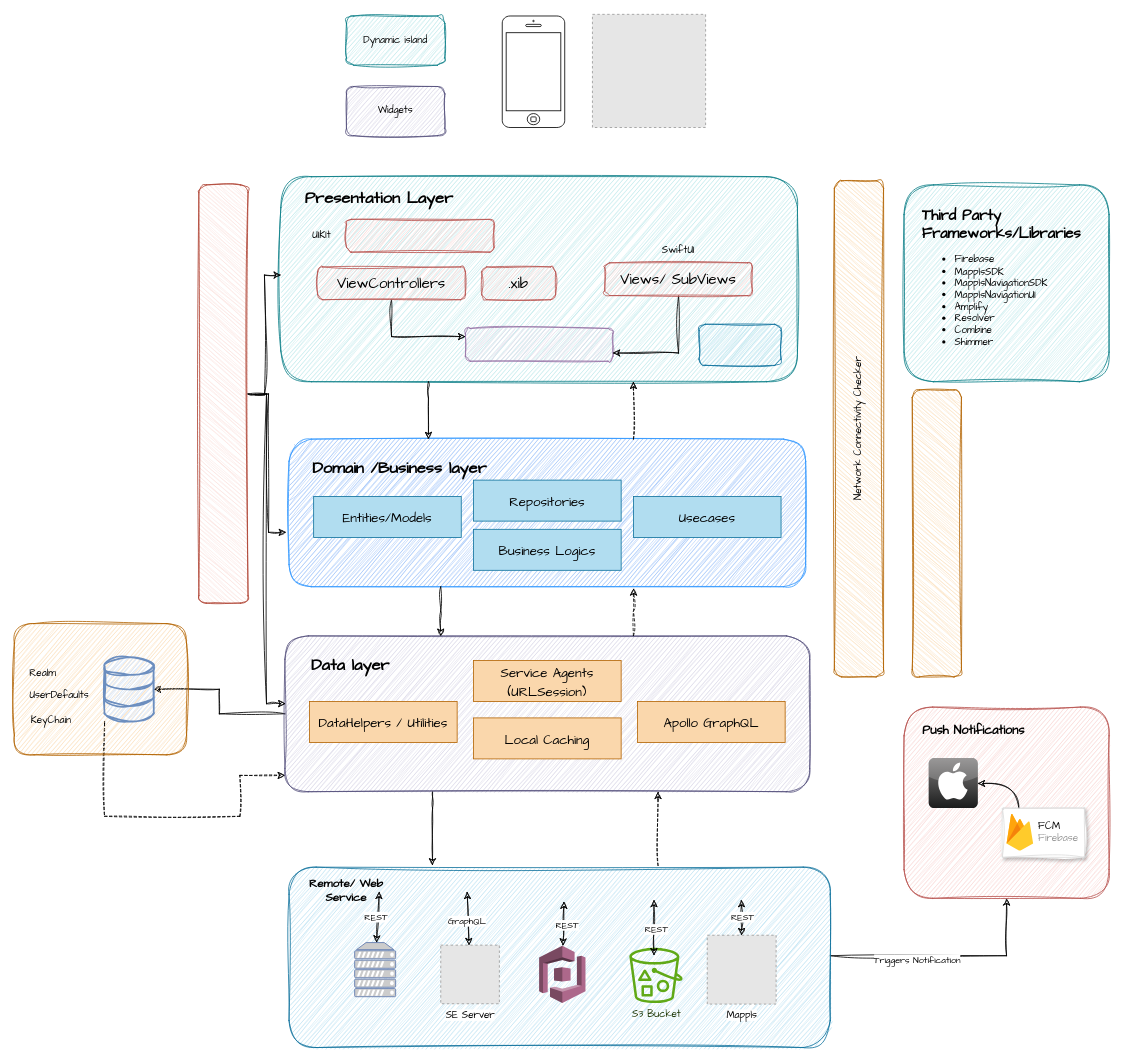
Some shapes in this 1123 by 1062 pixel diagram are drawn without their labels. Grey dashed boxes stand in for pictures. Here are the shapes that lost their labels. From the top down, the centre of each, then its label:
At (x=420, y=235): "Storyboards".
At (x=539, y=344): "ViewModels".
At (x=739, y=344): "Image/Video Assets".
At (x=223, y=393): "Dependency Injections (Resolver)".
At (x=936, y=533): "Network Interceptors".
At (x=128, y=689): "Local Database".
At (x=953, y=782): "APNS".
At (x=374, y=969): "ByteBeam".
At (x=561, y=974): "AWS Cognito".
